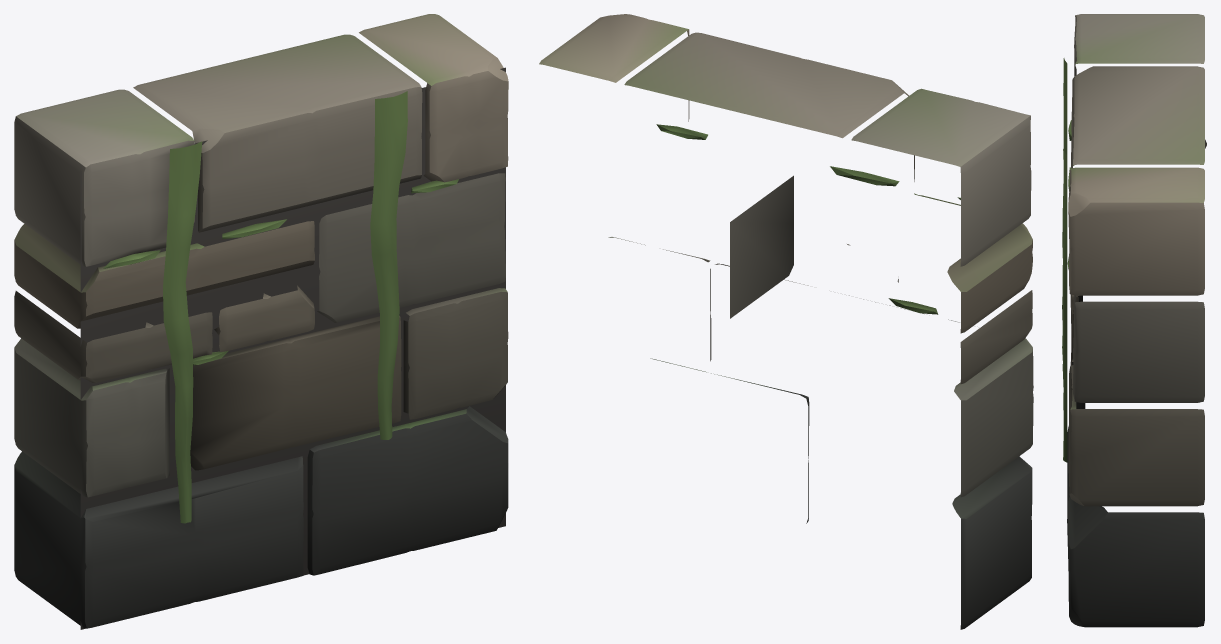
File: ruins-wall-damp-v1.glb
3 renders of one model, left to right at view 1: azimuth 30°, elevation 25°; view 2: azimuth 150°, elevation 25°; view 3: azimuth 270°, elevation 25°, orthographic. The views are drawn at different scales.
Visible parts, largest first — view 1: 0_ruins_wall_damp; view 2: 0_ruins_wall_damp; view 3: 0_ruins_wall_damp.
Boxes of the visible parts, x1=… form: 0_ruins_wall_damp: x1=14, y1=14, x2=508, y2=629; 0_ruins_wall_damp: x1=539, y1=14, x2=1033, y2=629; 0_ruins_wall_damp: x1=1062, y1=14, x2=1206, y2=627.
Bounding box in the file's own units: 1.98 × 2.07 × 0.6357.
